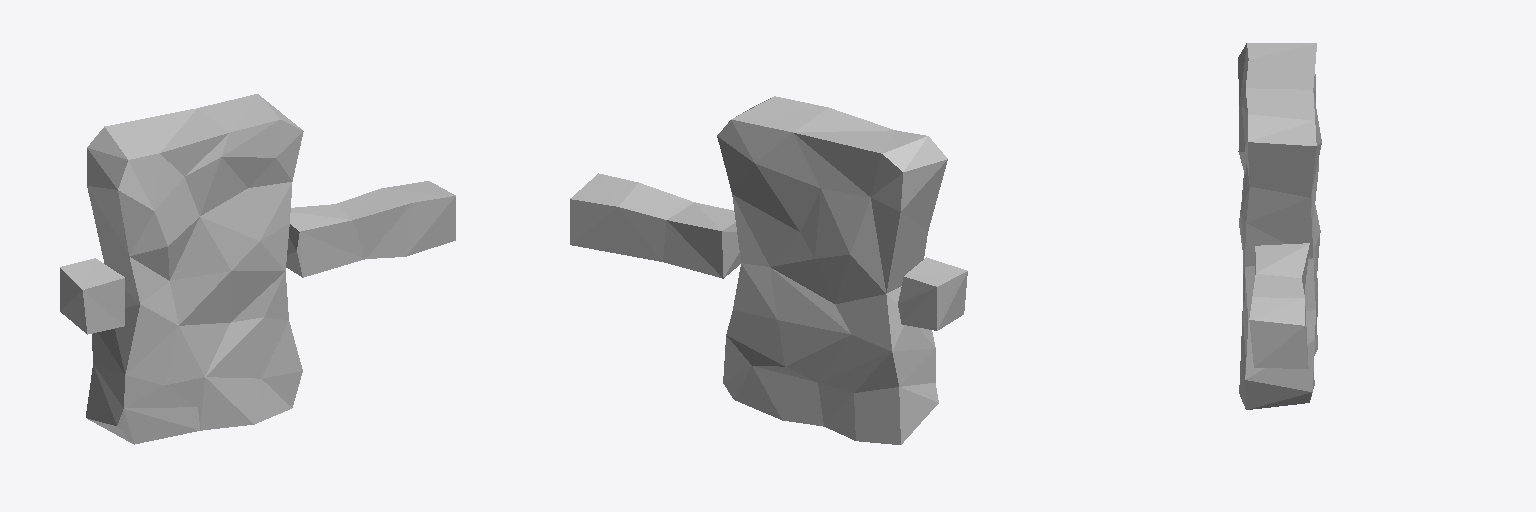
File: 3d_hammer.obj
The picture shows the model from 3 angles: view 1: azimuth 30°, elevation 25°; view 2: azimuth 150°, elevation 25°; view 3: azimuth 270°, elevation 25°; orthographic projection.
Parts seen in each view (by area): view 1: Hammer_Curve.008; view 2: Hammer_Curve.008; view 3: Hammer_Curve.008.
Part boxes in pixels (left/top/right/bottom): Hammer_Curve.008: left=60, top=94, right=455, bottom=444; Hammer_Curve.008: left=570, top=96, right=967, bottom=444; Hammer_Curve.008: left=1238, top=43, right=1321, bottom=409.
Size of the model in its own units: 0.8175 by 0.6205 by 0.1595.